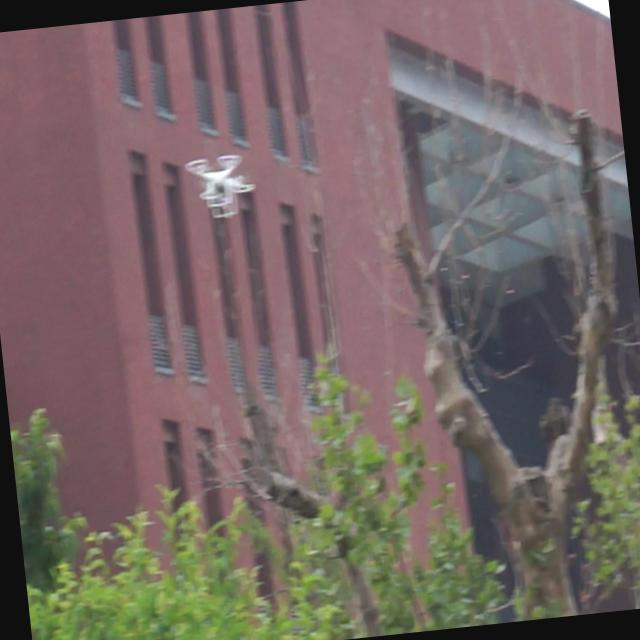drone: (182, 150, 257, 223)
